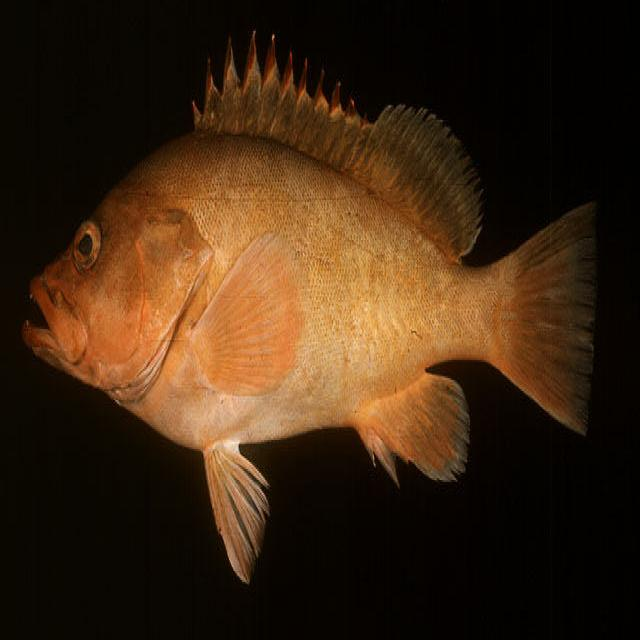ikan: (20, 28, 599, 586)
